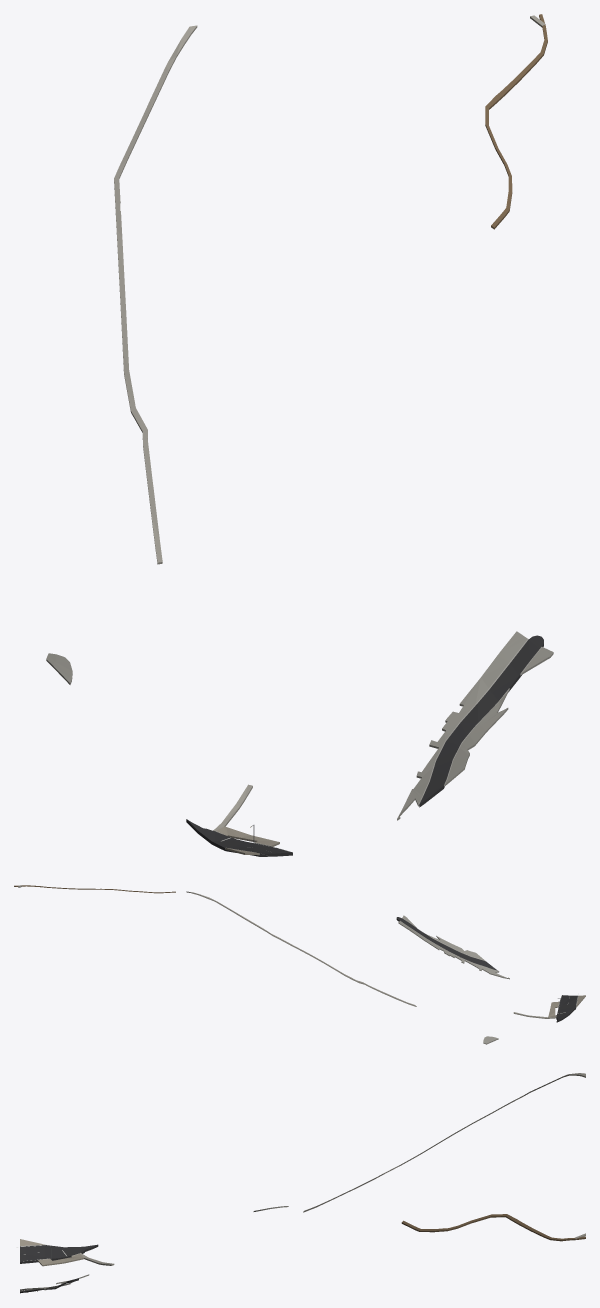
The picture shows the model from 3 angles, top to bottom: view 1: azimuth 30°, elevation 25°; view 2: azimuth 150°, elevation 25°; view 3: azimuth 270°, elevation 25°; orthographic projection. The views are drawn at different scales.
Bounding box in the file's own units: 287 × 169 × 295.
